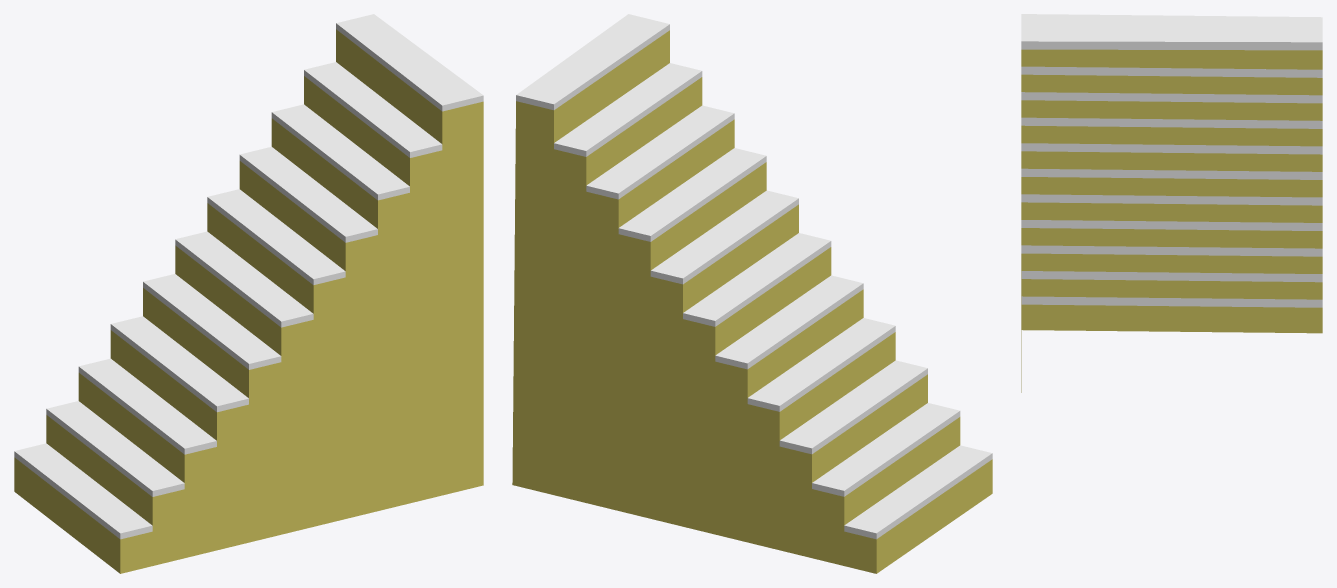
The model's file is stair.FBX.
3 views of the same model, side by side, from view 1: azimuth 30°, elevation 25°; view 2: azimuth 150°, elevation 25°; view 3: azimuth 270°, elevation 25° (orthographic). The views are drawn at different scales.
Parts seen in each view (by area): view 1: Object005, snow035; view 2: Object005, snow035; view 3: Object005, snow035.
Part boxes in pixels (x1,y1,x2,y2): Object005: (14, 29, 483, 573); snow035: (14, 14, 483, 539); Object005: (512, 30, 992, 573); snow035: (516, 14, 992, 539); Object005: (1021, 49, 1322, 392); snow035: (1021, 14, 1322, 307).
Size of the model in its own units: 322 by 326 by 168.
